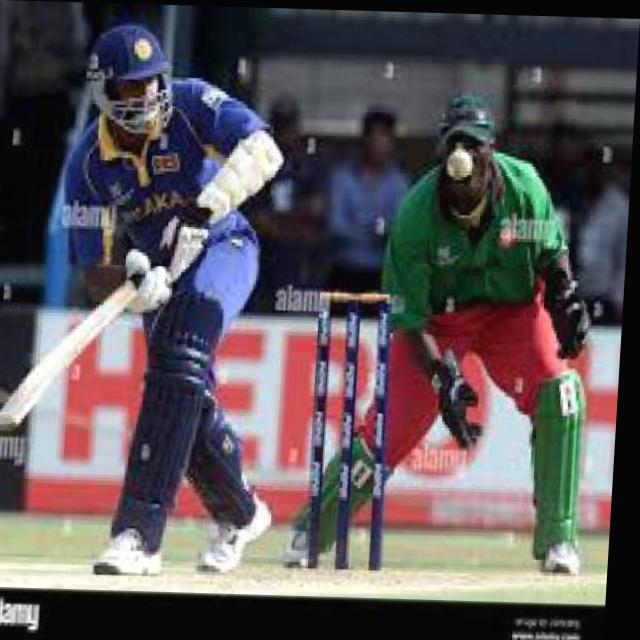-: (442, 148, 486, 182)
